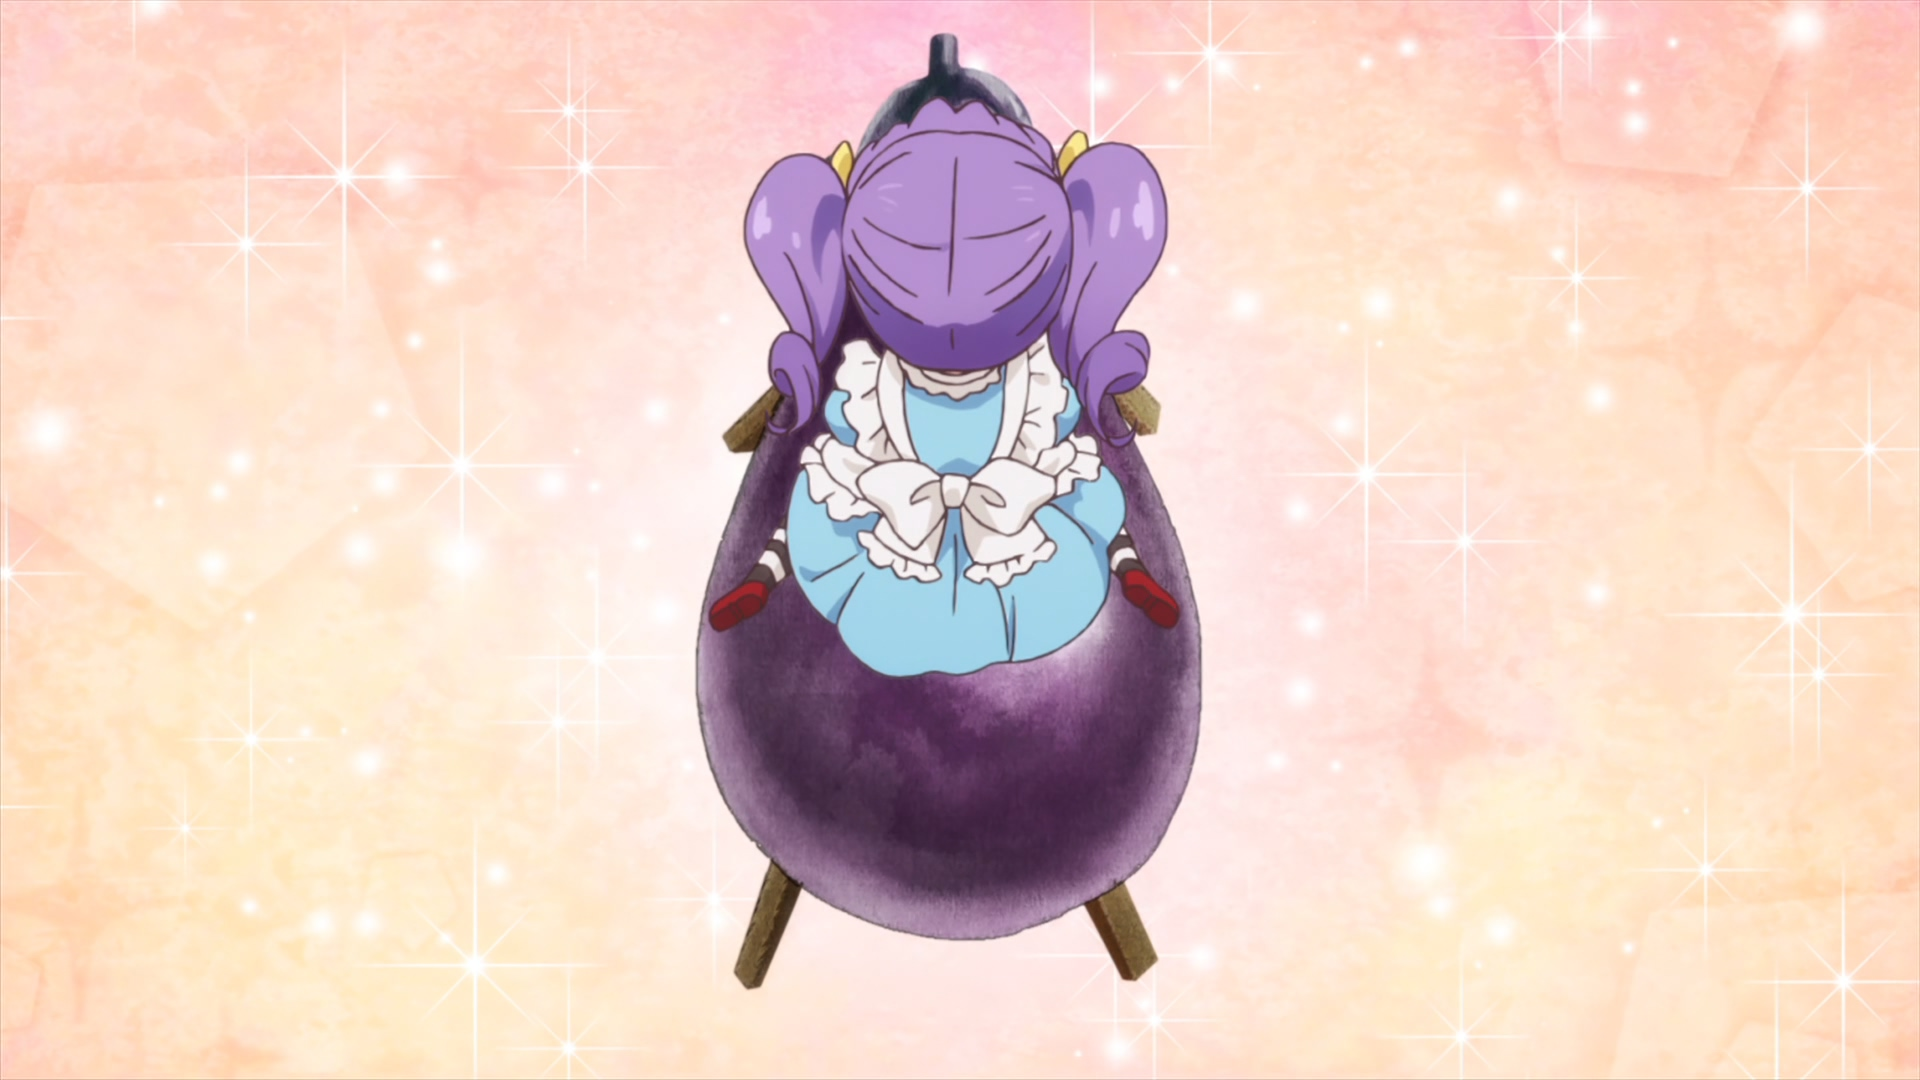阿菊: (709, 99, 1182, 675)
